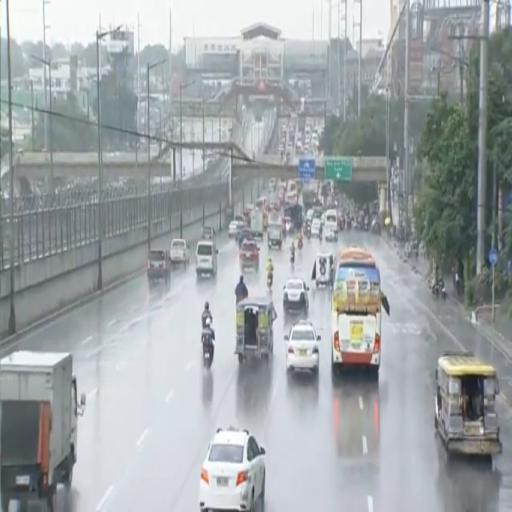bus: (332, 248, 381, 375), (332, 381, 380, 460)
car: (200, 427, 265, 511), (285, 322, 320, 374), (283, 278, 309, 313), (196, 240, 218, 278), (147, 249, 170, 282), (240, 239, 259, 269), (171, 239, 190, 265), (237, 227, 252, 247), (228, 220, 242, 237), (311, 218, 320, 237), (202, 227, 215, 239)
jeepney: (435, 352, 501, 455), (234, 298, 276, 364)
motorcycle: (203, 340, 214, 369), (432, 283, 439, 299), (236, 295, 247, 303), (267, 274, 272, 290), (441, 286, 446, 301), (306, 228, 311, 239), (298, 238, 302, 249), (291, 251, 294, 264)
truck: (0, 351, 85, 511), (251, 208, 263, 238)
